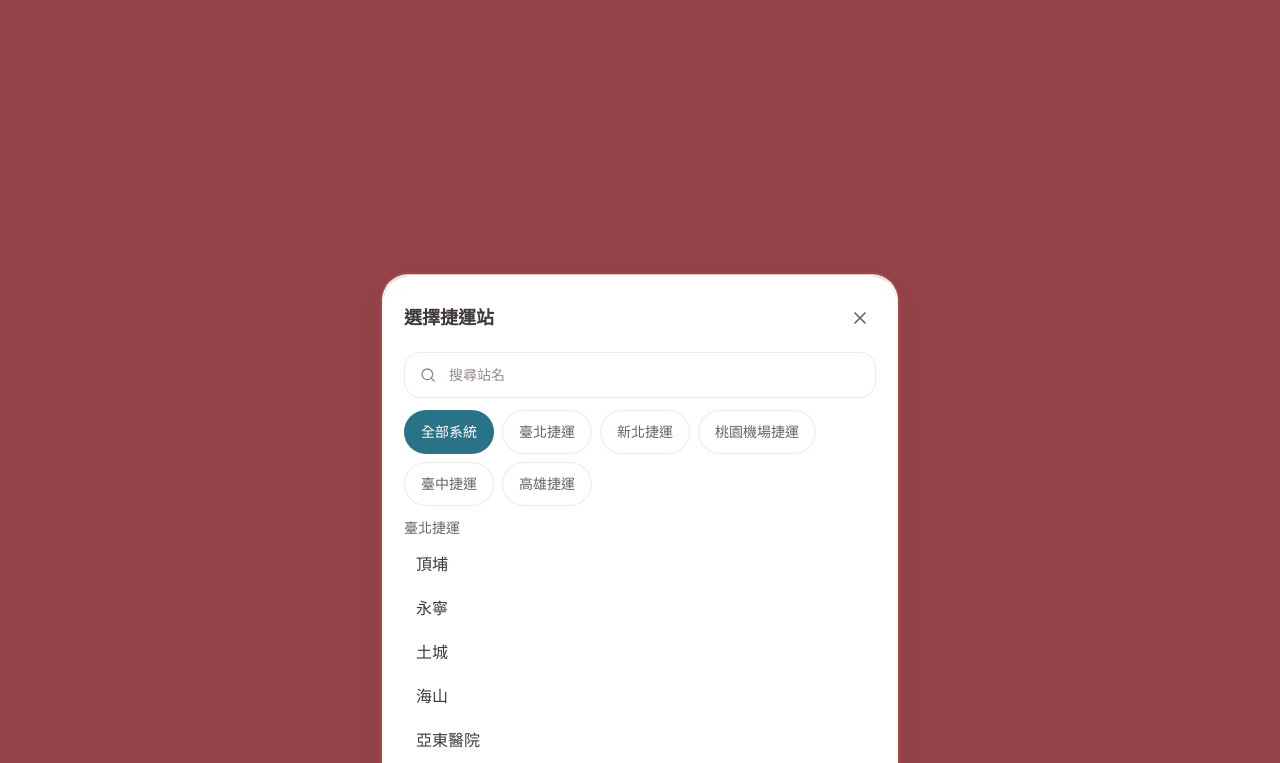
Test: MrtPicker › 找不到的時候說找不到，不是給一片空白
The width and height of the screenshot is (1280, 763).
Type "不存在的站" into the search field named "搜尋捷運站".
click(640, 375); type("不存在的站")  # box [404,352,876,398]
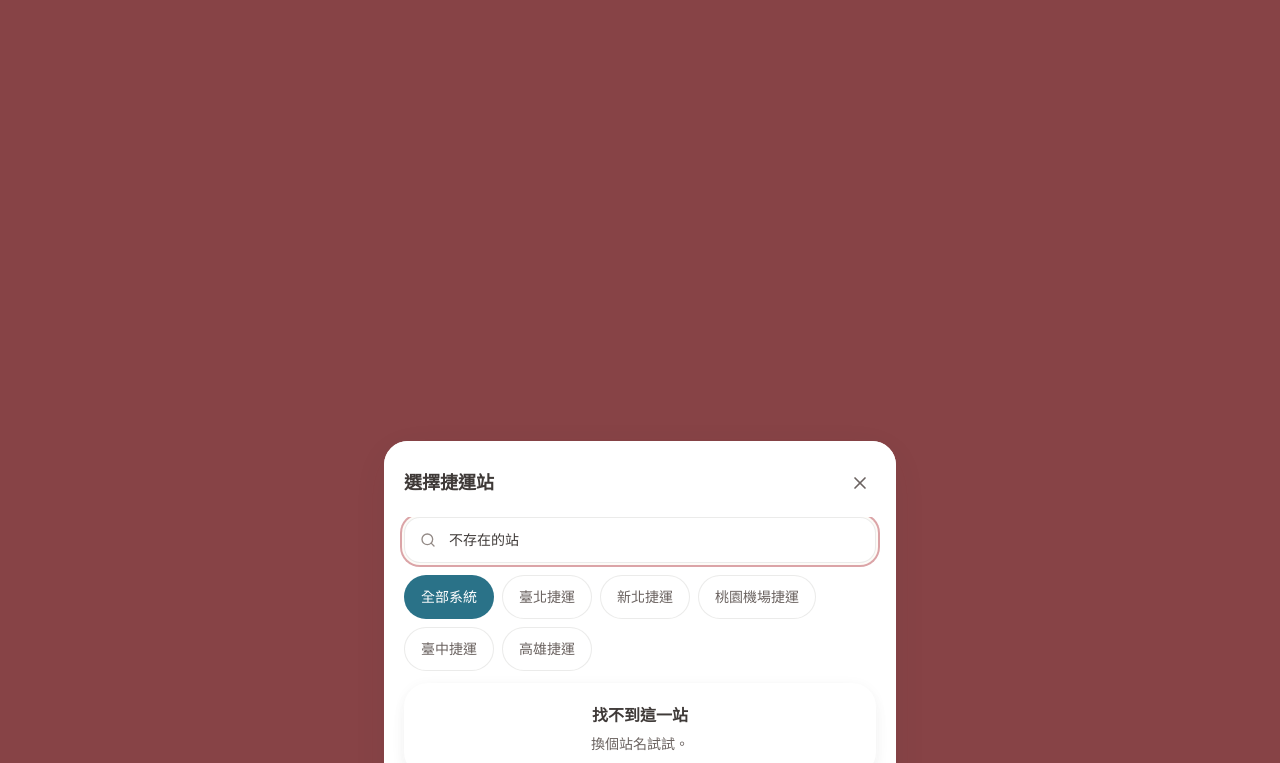
Now the heading "找不到這一站" is shown, box [592,705,688,725]
